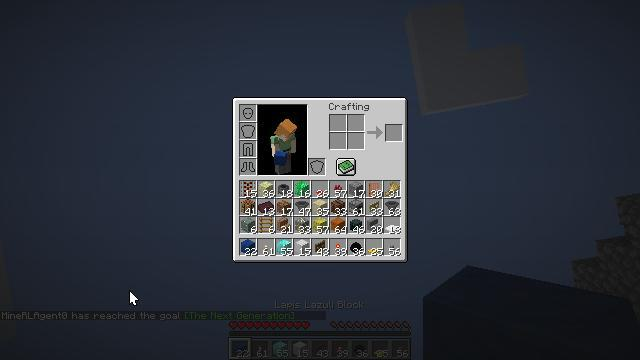cursor: (129, 290, 139, 306)
